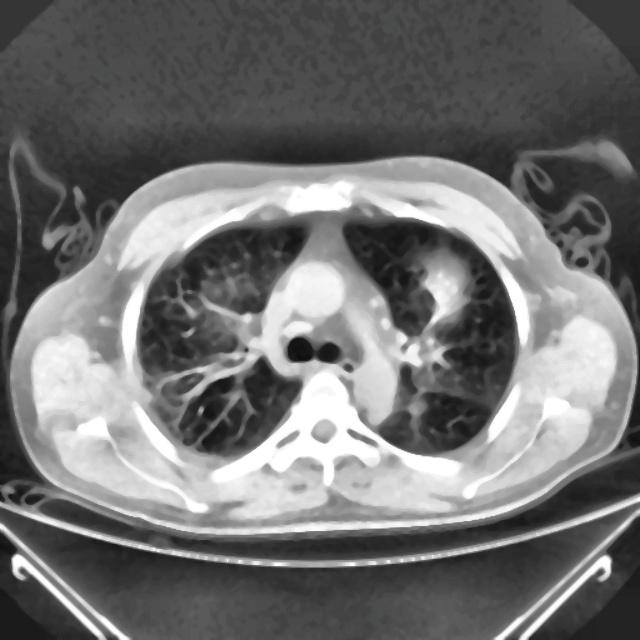covid: (9, 152, 636, 537)
